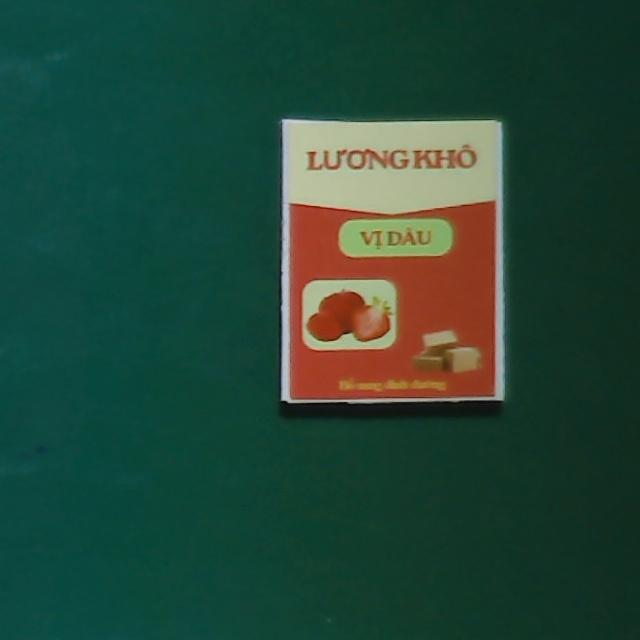dau: (278, 118, 502, 403)
